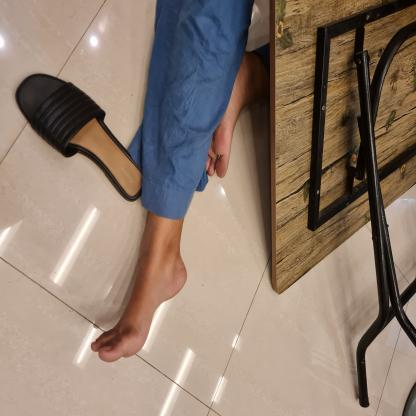leg: (84, 213, 198, 372), (203, 44, 260, 186)
